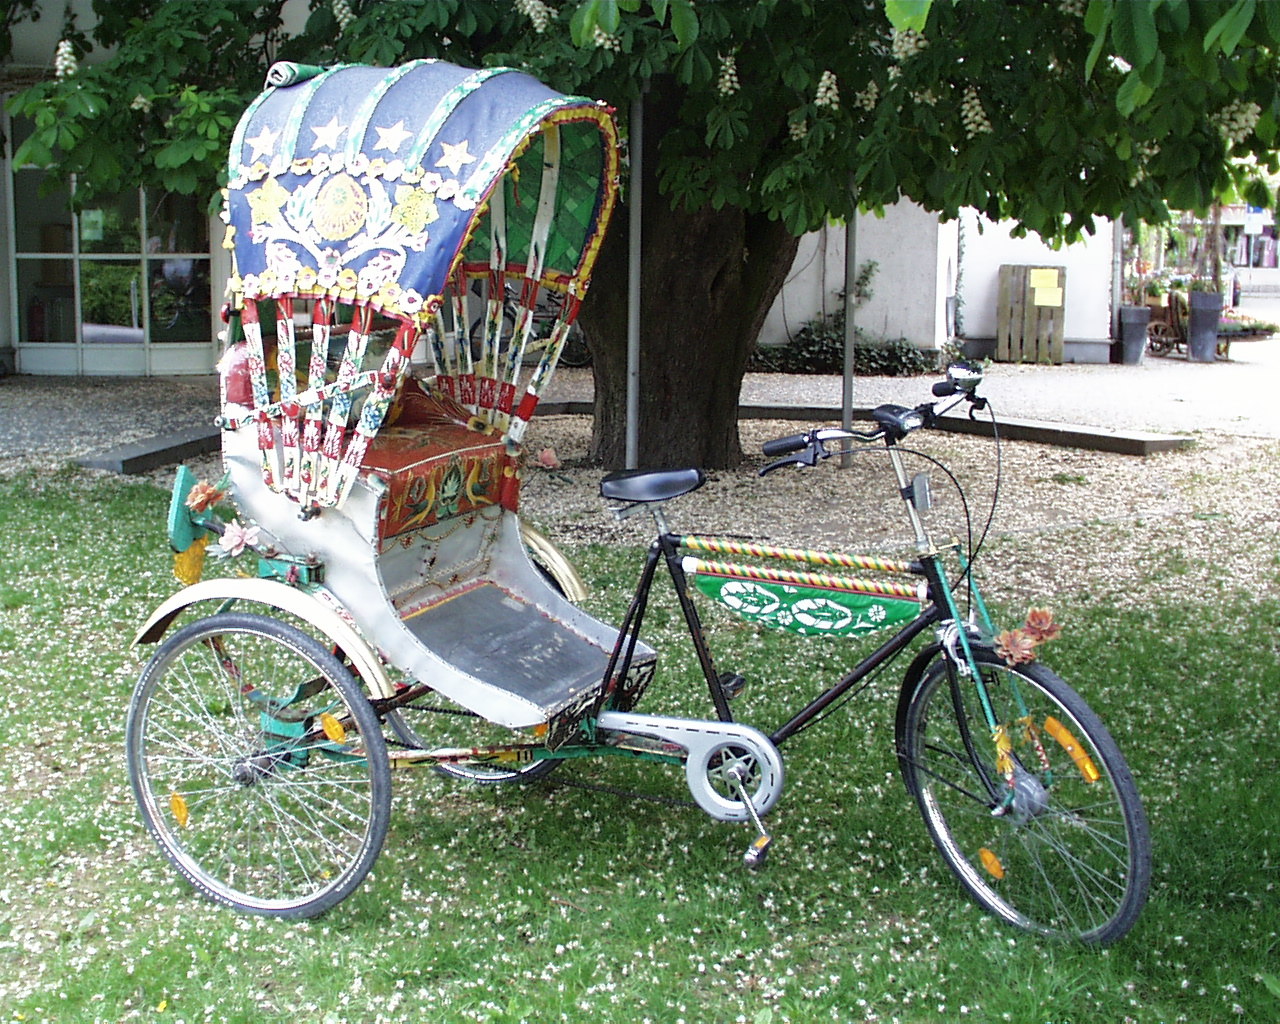Rickshaw: (152, 85, 1130, 952)
